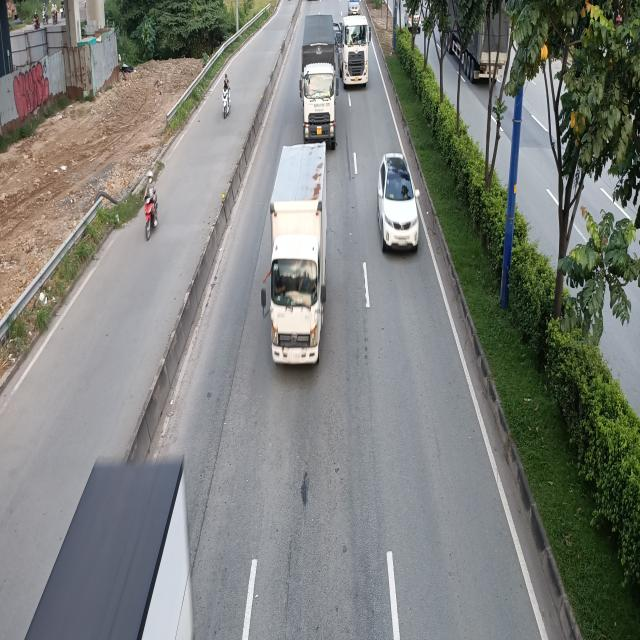car: (376, 154, 418, 256), (348, 0, 361, 13)
container: (338, 14, 370, 86)
truck: (261, 144, 329, 372), (300, 13, 334, 148)
